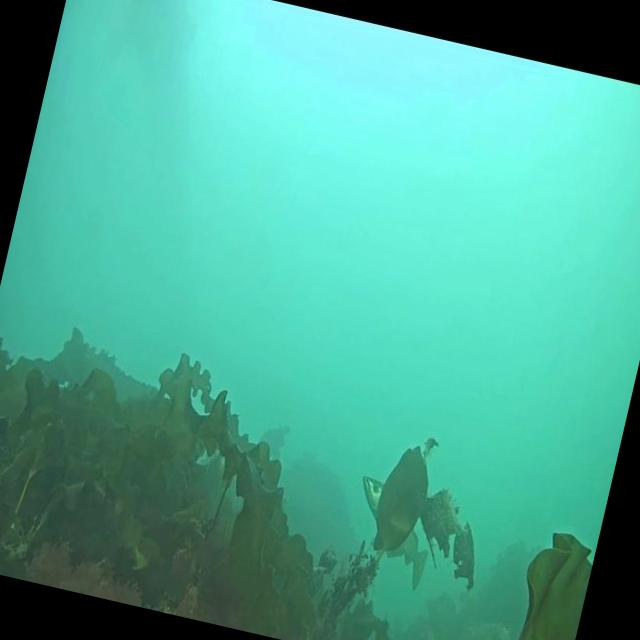fish: (341, 469, 443, 584)
